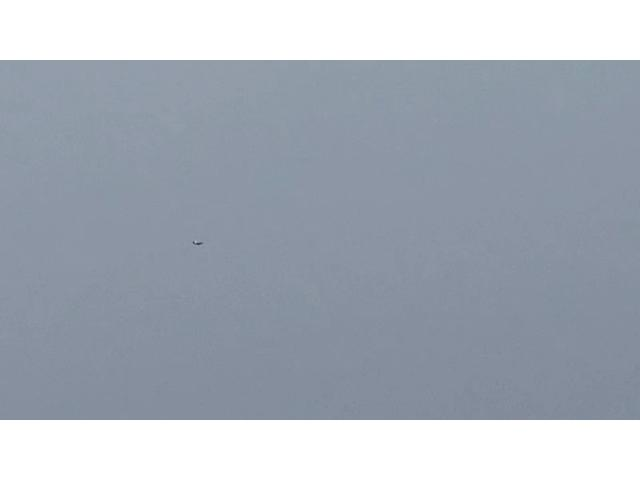Anti-Drone: (188, 235, 206, 249)
